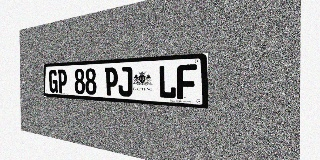8: (85, 68, 96, 95), (74, 68, 85, 94)
F: (177, 64, 197, 100)
G: (49, 70, 58, 93)
J: (118, 67, 132, 97)
L: (158, 65, 176, 99)
P: (105, 67, 118, 96), (58, 69, 67, 93)
